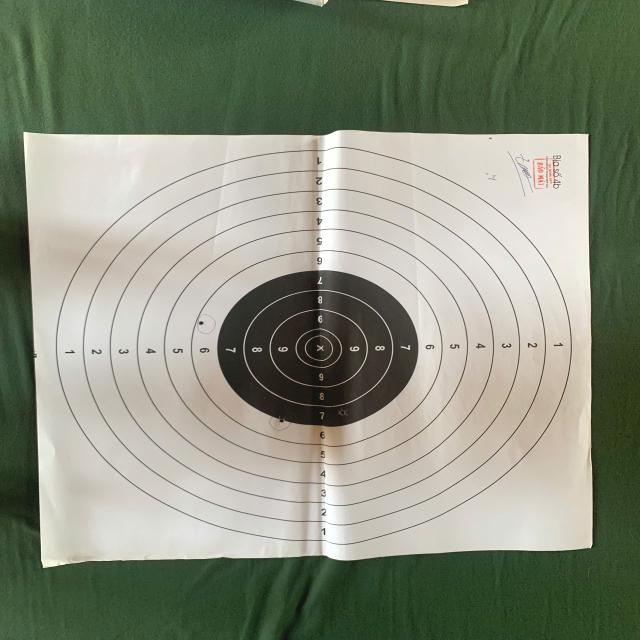bullet: (338, 409, 347, 415), (199, 320, 204, 325), (279, 419, 284, 423)
target: (25, 130, 592, 567)
